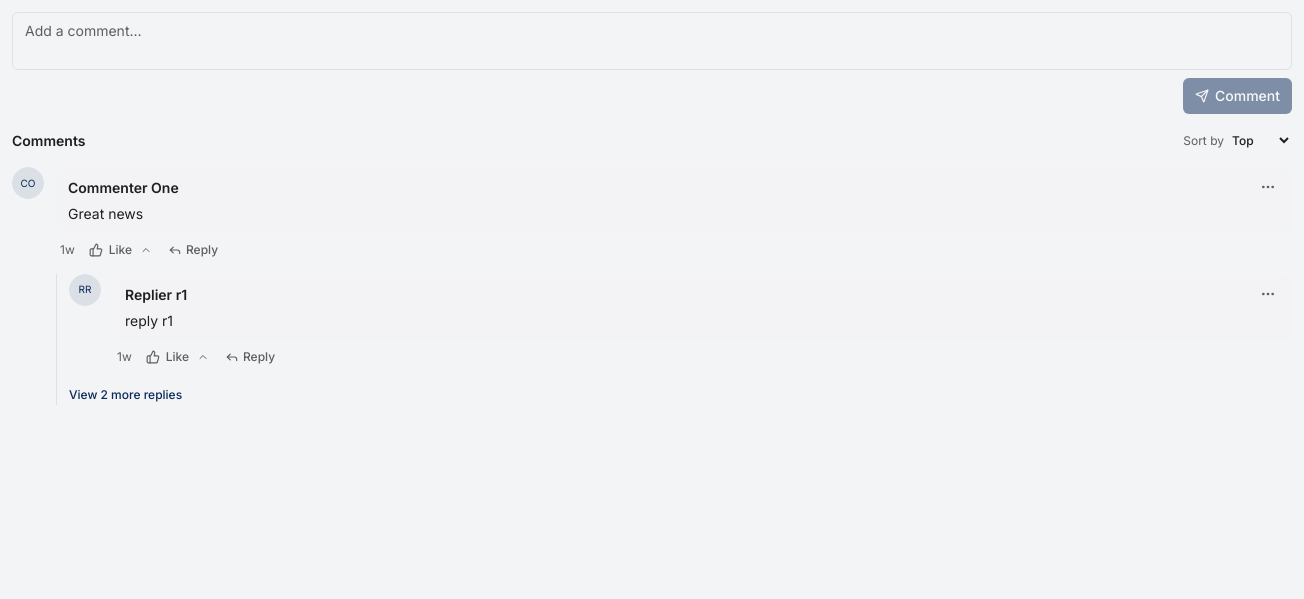
Scenario: CommentThread › shows preview replies and loads the rest on demand
The image size is (1304, 599).
Expected: the text "Great news" is shown, [68, 205, 143, 222]
Expected: the text "reply r1" is shown, [125, 312, 173, 329]
Click the button "View 2 more replies" at (126, 394), box [69, 386, 182, 402]
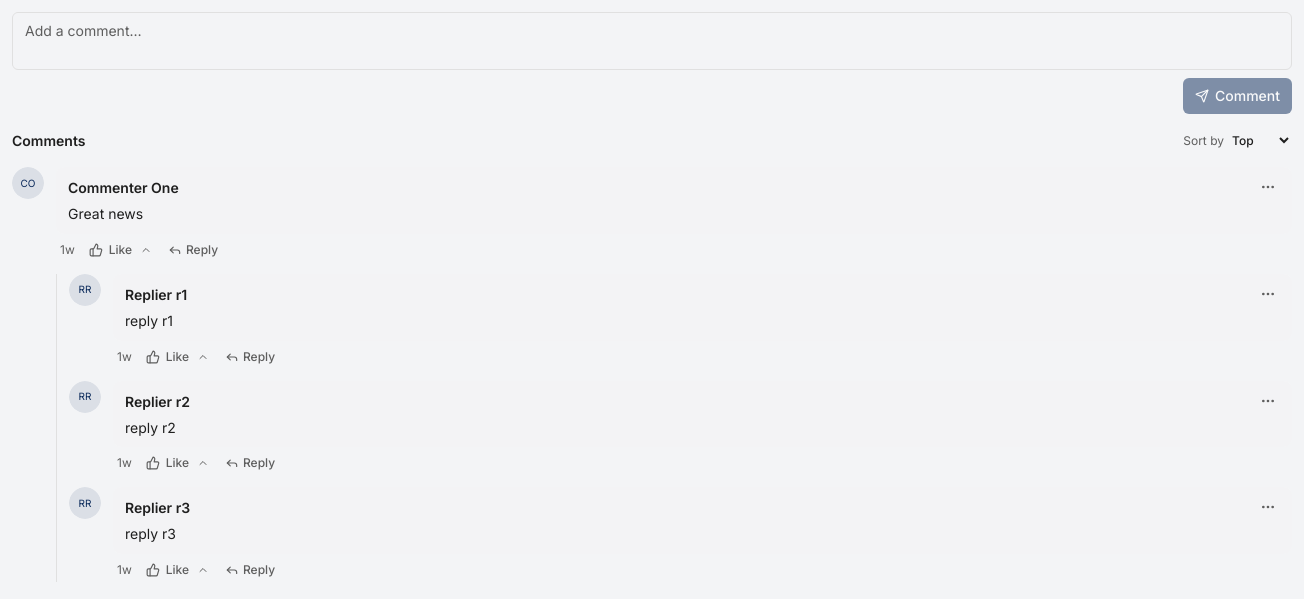
Expected: the text "reply r1" is shown once, [125, 312, 173, 329]
Result: the text "reply r3" is shown at [125, 525, 176, 542]
Result: the button "more replies" is gone
